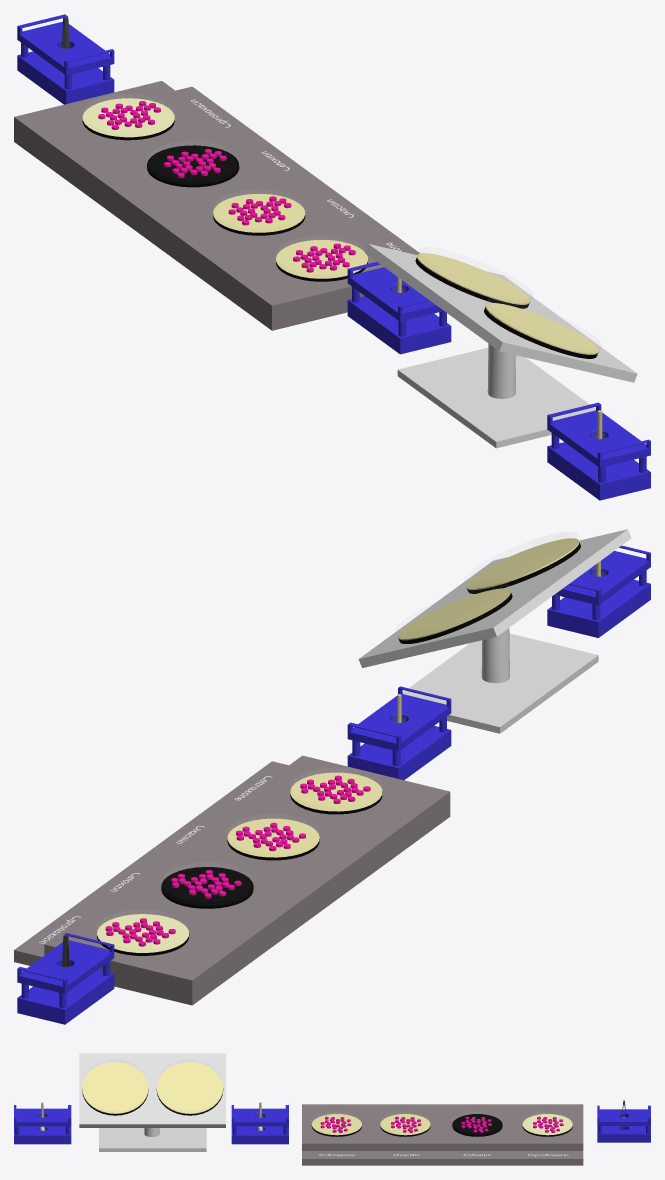
File: pills object (1).fbx
The picture shows the model from 3 angles, top to bottom: view 1: azimuth 30°, elevation 25°; view 2: azimuth 150°, elevation 25°; view 3: azimuth 270°, elevation 25°; orthographic projection. The views are drawn at different scales.
Parts seen in each view (by area): view 1: Cube.003, Cube, stand 3, stand 2, stand 1, Cylinder.121, Cylinder.119, Cylinder.001, Cylinder.002, Cylinder, Cylinder.003; view 2: Cube.003, Cube, stand 2, stand 1, stand 3, Cylinder.121, Cylinder.119, Cylinder.001, Cylinder.002, Cylinder.003, Cylinder; view 3: Cube.003, Cube, Cylinder.119, Cylinder.121, stand 2, stand 3, stand 1, Cylinder.001, Cylinder.002, Cylinder, Cylinder.003.
Boxes of the visible parts, <box> form: Cube.003: <box>14,81,419,330</box>; Cube: <box>364,244,637,448</box>; stand 3: <box>547,402,650,500</box>; stand 2: <box>347,261,451,354</box>; stand 1: <box>17,14,114,104</box>; Cylinder.121: <box>484,303,598,358</box>; Cylinder.119: <box>415,253,529,308</box>; Cylinder.001: <box>147,145,239,187</box>; Cylinder.002: <box>213,193,305,235</box>; Cylinder: <box>82,98,174,140</box>; Cylinder.003: <box>276,239,367,281</box>; Cube.003: <box>14,755,450,1005</box>; Cube: <box>358,529,631,733</box>; stand 2: <box>347,686,451,780</box>; stand 1: <box>17,933,114,1024</box>; stand 3: <box>547,545,650,637</box>; Cylinder.121: <box>466,538,580,593</box>; Cylinder.119: <box>398,588,512,643</box>; Cylinder.001: <box>161,867,253,908</box>; Cylinder.002: <box>227,818,319,860</box>; Cylinder.003: <box>290,772,382,814</box>; Cylinder: <box>97,914,189,955</box>; Cube.003: <box>302,1104,583,1165</box>; Cube: <box>79,1053,225,1151</box>; Cylinder.119: <box>156,1062,223,1115</box>; Cylinder.121: <box>82,1062,148,1115</box>; stand 2: <box>231,1105,288,1144</box>; stand 3: <box>14,1105,71,1144</box>; stand 1: <box>597,1105,650,1142</box>; Cylinder.001: <box>452,1114,502,1136</box>; Cylinder.002: <box>380,1114,430,1136</box>; Cylinder: <box>522,1114,572,1136</box>; Cylinder.003: <box>311,1114,361,1136</box>.
Size of the model in its own units: 59.82 by 42.74 by 339.
